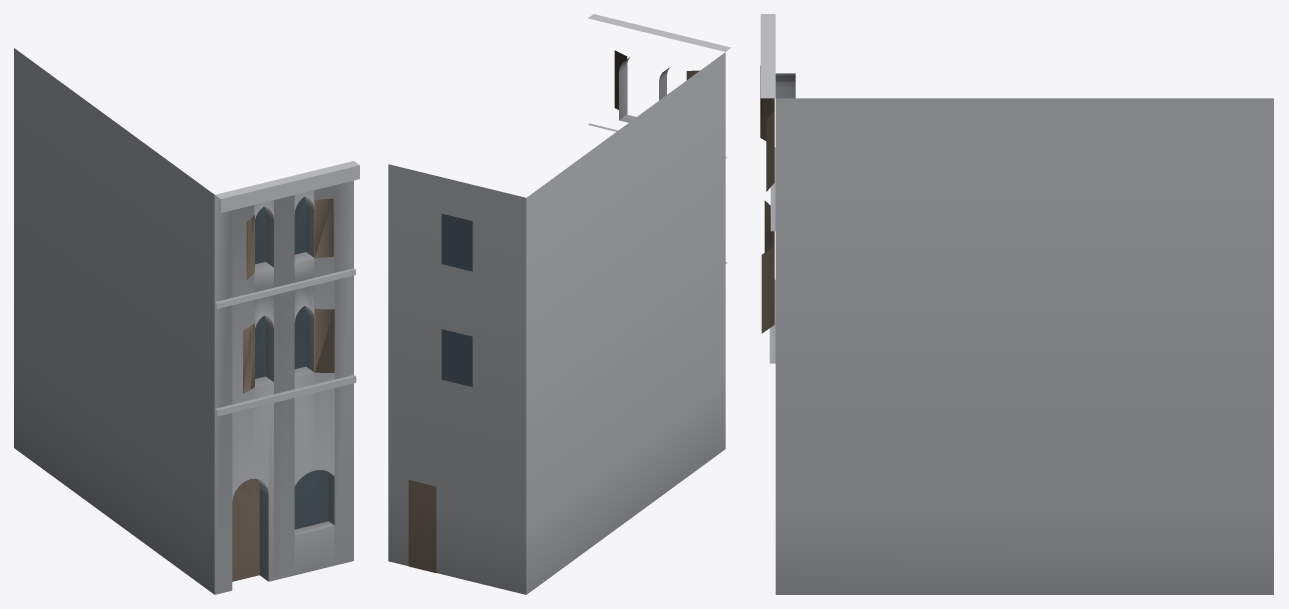
Rendered from sg_house_plain.glb.
The picture shows the model from 3 angles, left to right: view 1: azimuth 30°, elevation 25°; view 2: azimuth 150°, elevation 25°; view 3: azimuth 270°, elevation 25°; orthographic projection. The views are drawn at different scales.
Parts seen in each view (by area): view 1: sg_house_plain_SG_Stone, sg_house_plain_SG_Joinery, sg_house_plain_SG_Glass; view 2: sg_house_plain_SG_Stone, sg_house_plain_SG_Glass, sg_house_plain_SG_Joinery; view 3: sg_house_plain_SG_Stone, sg_house_plain_SG_Joinery.
Part boxes in pixels (x1,y1,x2,y2): sg_house_plain_SG_Stone: (14,48,359,594); sg_house_plain_SG_Joinery: (232,198,334,581); sg_house_plain_SG_Glass: (255,197,328,529); sg_house_plain_SG_Stone: (388,14,730,594); sg_house_plain_SG_Glass: (441,213,472,386); sg_house_plain_SG_Joinery: (408,50,699,572); sg_house_plain_SG_Stone: (760,14,1273,594); sg_house_plain_SG_Joinery: (760,66,774,333).
Bounding box in the file's own units: 4 × 11 × 10.33.
